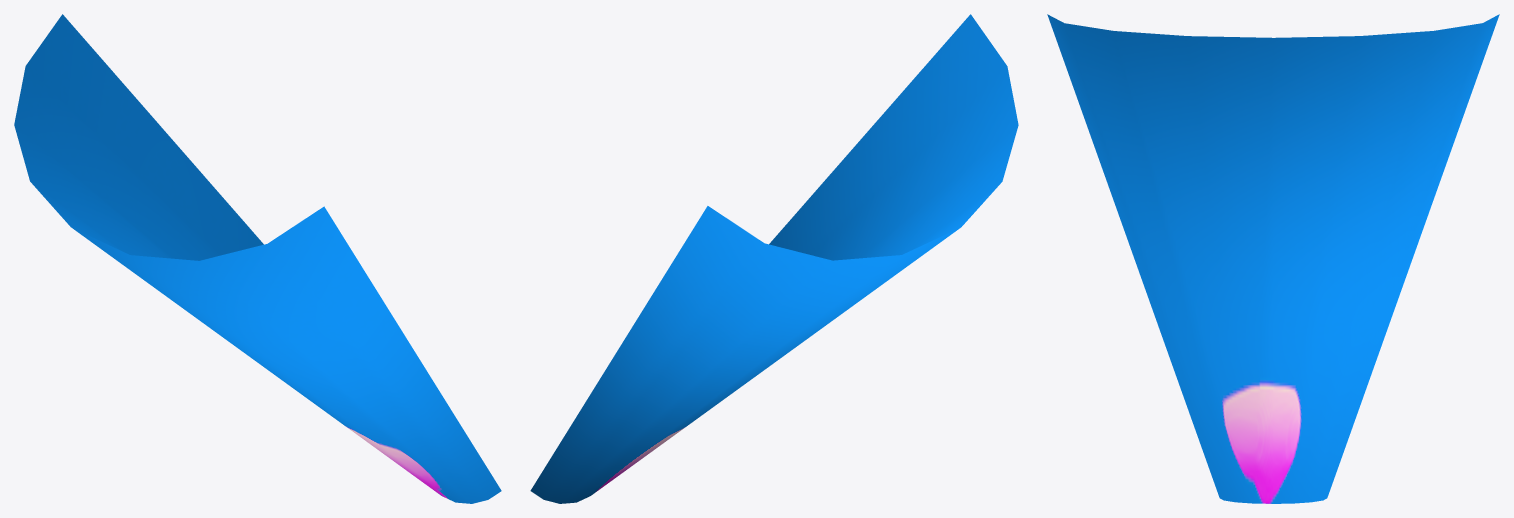
The model's file is p_foamgun_liquidsplash03_cylinder.fbx.
The picture shows the model from 3 angles, left to right: view 1: azimuth 30°, elevation 25°; view 2: azimuth 150°, elevation 25°; view 3: azimuth 270°, elevation 25°; orthographic projection. The views are drawn at different scales.
Visible parts, largest first — view 1: Fluid2.001; view 2: Fluid2.001; view 3: Fluid2.001.
Part boxes in pixels (x1=…): Fluid2.001: x1=14, y1=14, x2=501, y2=503; Fluid2.001: x1=530, y1=14, x2=1018, y2=503; Fluid2.001: x1=1047, y1=14, x2=1499, y2=503.
Size of the model in its own units: 0.8125 by 0.8674 by 0.923.
